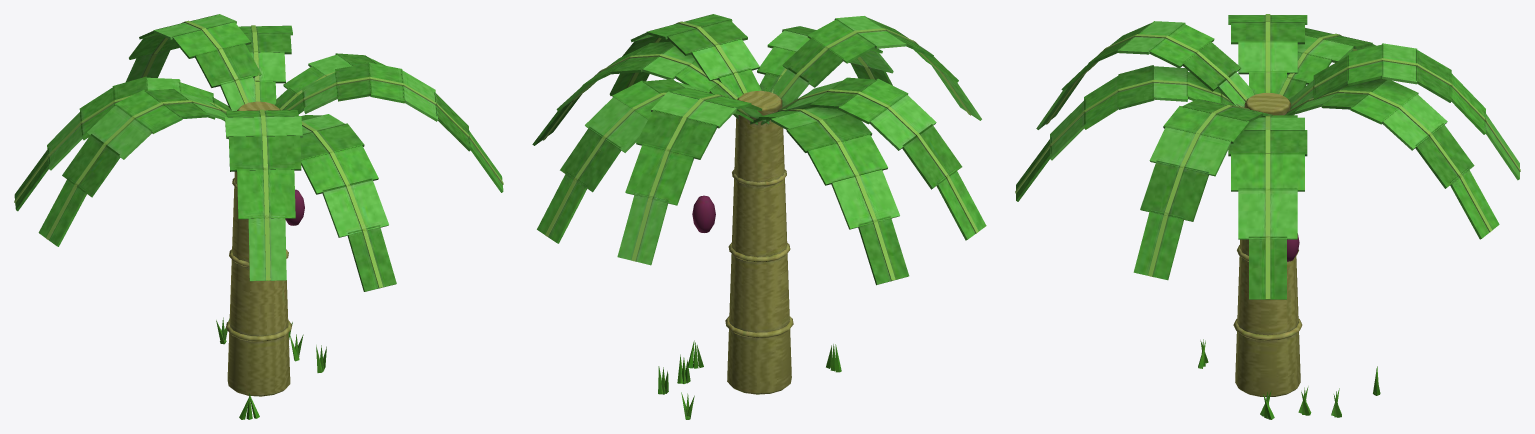
Rendered from banana_tree.glb.
The picture shows the model from 3 angles, left to right: view 1: azimuth 30°, elevation 25°; view 2: azimuth 150°, elevation 25°; view 3: azimuth 270°, elevation 25°; orthographic projection. The views are drawn at different scales.
Visible parts, largest first — view 1: crown, banana_tree; view 2: crown, banana_tree; view 3: crown, banana_tree.
Part boxes in pixels (bbox=[...]): crown: bbox=[14, 14, 503, 396]; banana_tree: bbox=[216, 317, 326, 419]; crown: bbox=[532, 14, 986, 394]; banana_tree: bbox=[658, 340, 841, 419]; crown: bbox=[1015, 14, 1520, 396]; banana_tree: bbox=[1198, 339, 1380, 419].
Size of the model in its own units: 1.54 by 1.1 by 1.54.
Materials: 1 (1 with a texture image).
